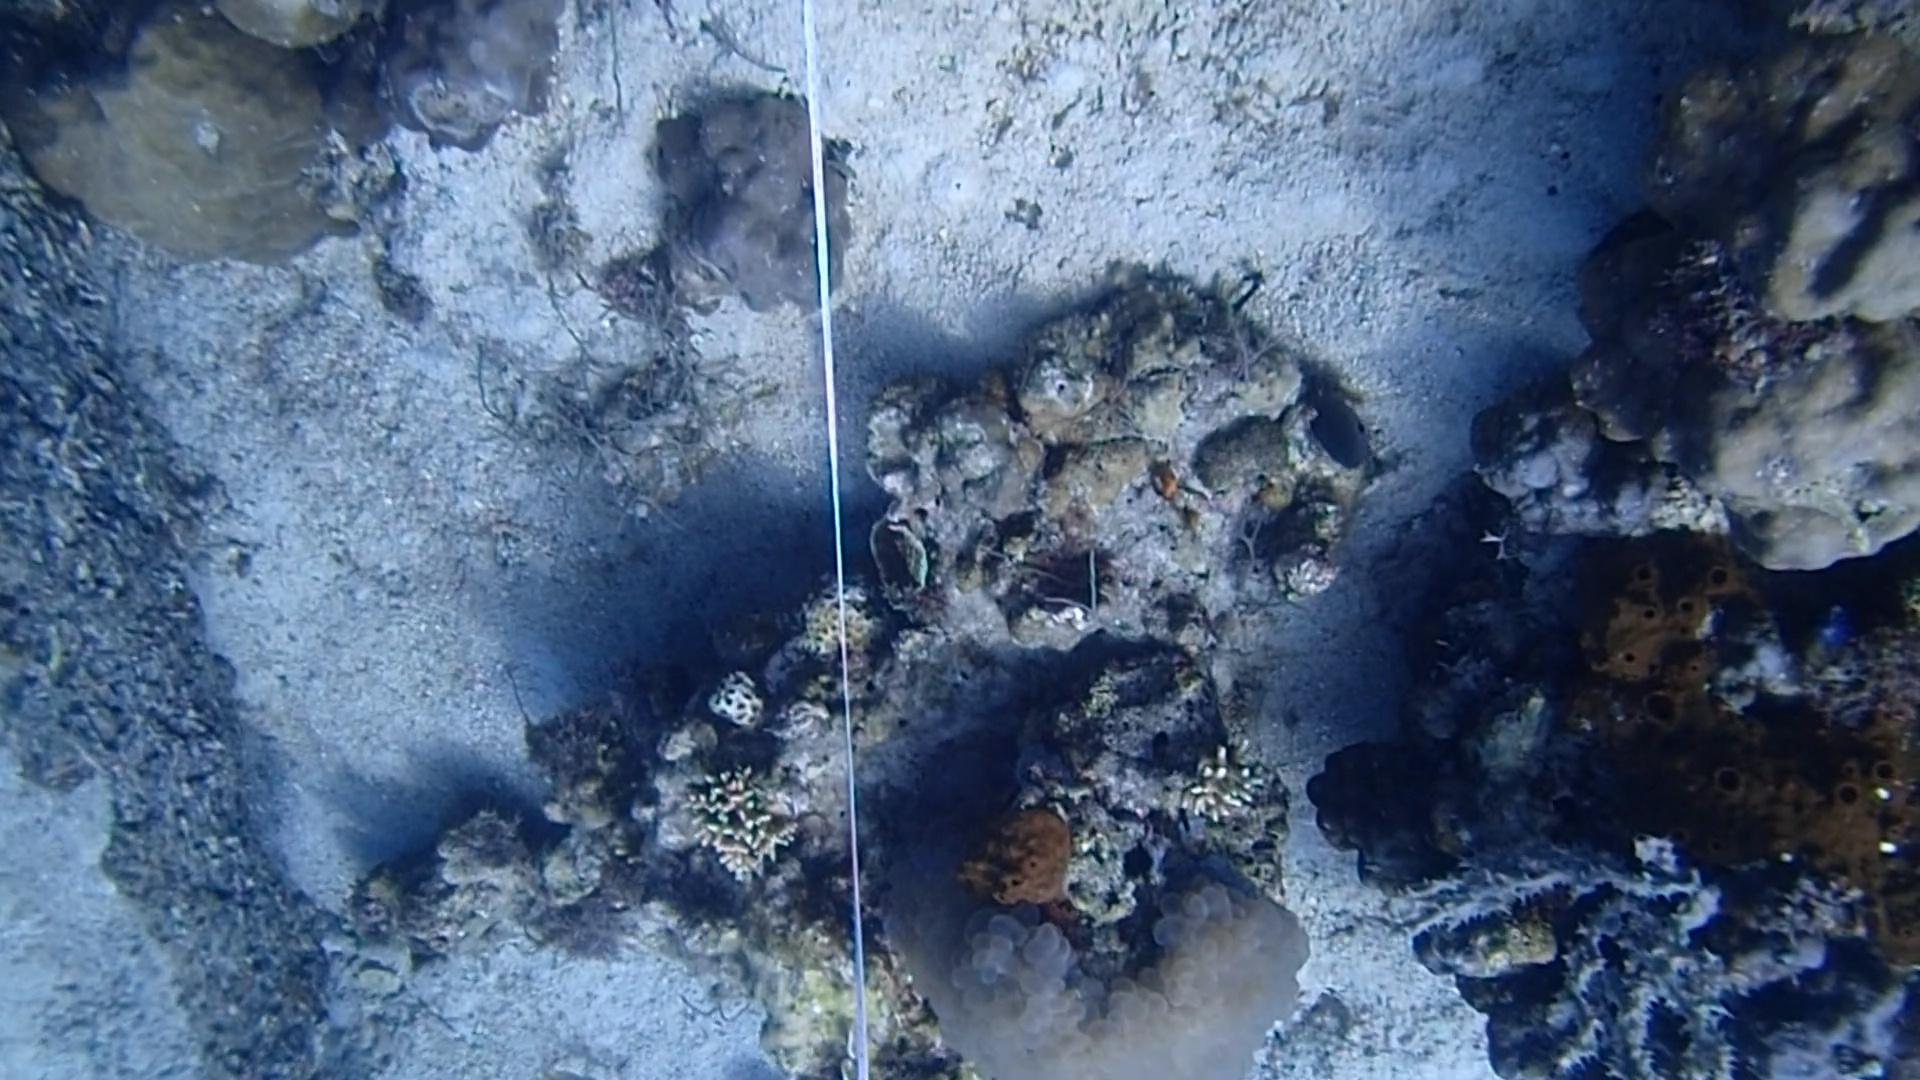Big Dark Blue Fish: (1284, 369, 1381, 479)
